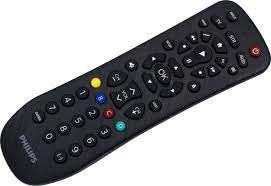remote control: (4, 5, 271, 178)
